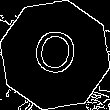O_S: (28, 25, 82, 85)
